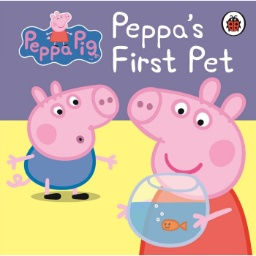Peppa: (115, 76, 255, 256)
